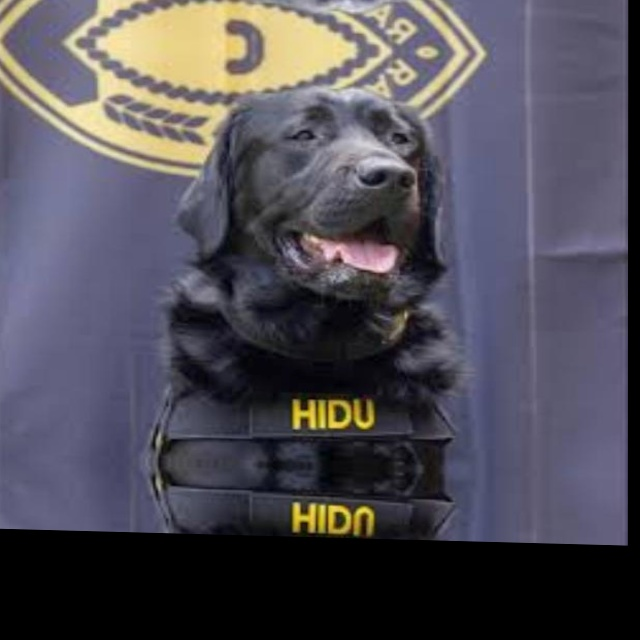dog: (163, 78, 447, 470), (163, 461, 446, 541), (163, 0, 447, 19)
